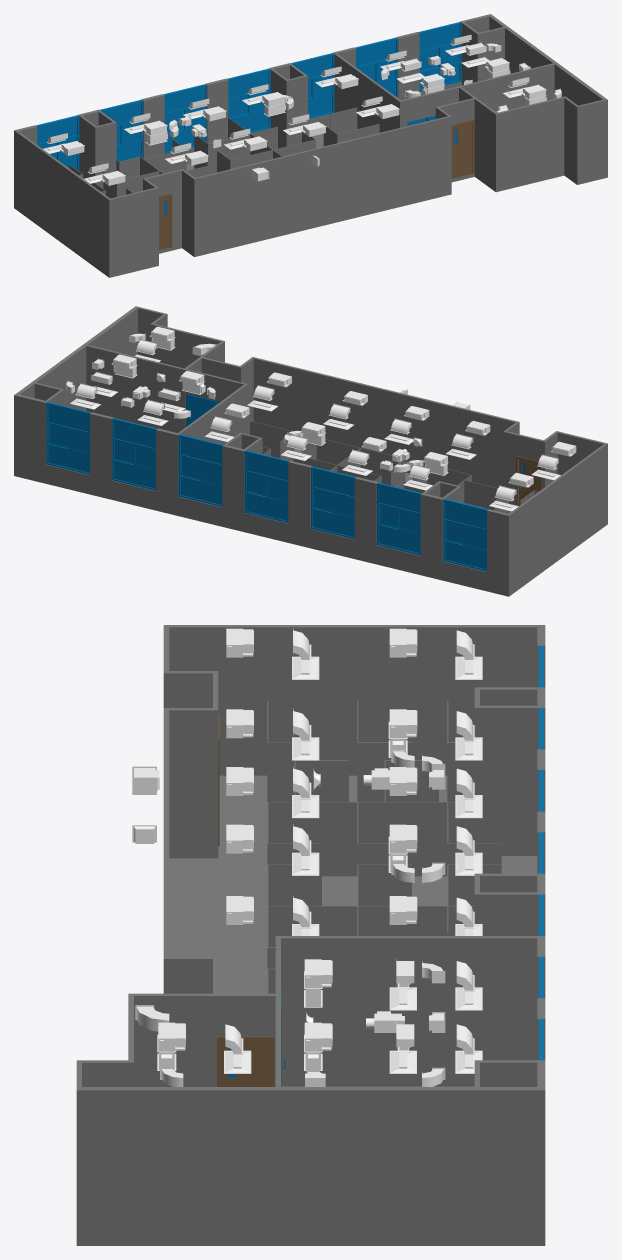
3 views of the same model, one above another, from view 1: azimuth 30°, elevation 25°; view 2: azimuth 150°, elevation 25°; view 3: azimuth 270°, elevation 25° (orthographic). The views are drawn at different scales.
Visible parts, largest first — view 1: 默认墙 (×28), 合成部分 (×7), 默认楼板, 橡木 (×2); view 2: 默认墙 (×18), 合成部分 (×8), 默认楼板, 橡木; view 3: 默认墙 (×28), 默认楼板, 实体 (×11), 橡木.
Part boxes in pixels (box(x1,y1,x2,y2)): 默认墙 (×28): box(14, 14, 607, 274); 合成部分 (×7): box(36, 22, 461, 170); 默认楼板: box(14, 133, 607, 277); 橡木 (×2): box(159, 119, 474, 249); 默认墙 (×18): box(14, 306, 607, 592); 合成部分 (×8): box(46, 393, 487, 571); 默认楼板: box(14, 448, 607, 596); 橡木: box(515, 456, 541, 505); 默认墙 (×28): box(76, 625, 545, 1238); 默认楼板: box(76, 775, 545, 1245); 实体 (×11): box(158, 628, 417, 1051); 橡木: box(217, 1036, 274, 1086).
Bounding box in the file's own units: 66.27 × 28.22 × 11.21.
